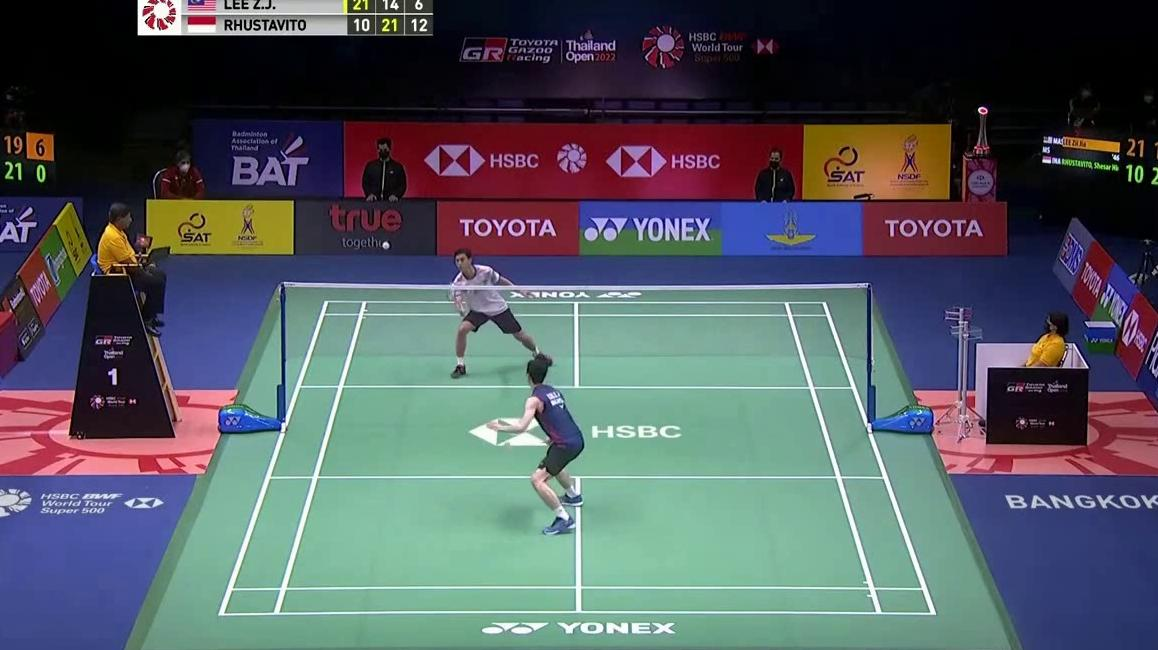racket: (485, 430, 553, 457), (444, 279, 475, 322)
shuttle: (381, 239, 392, 251)
